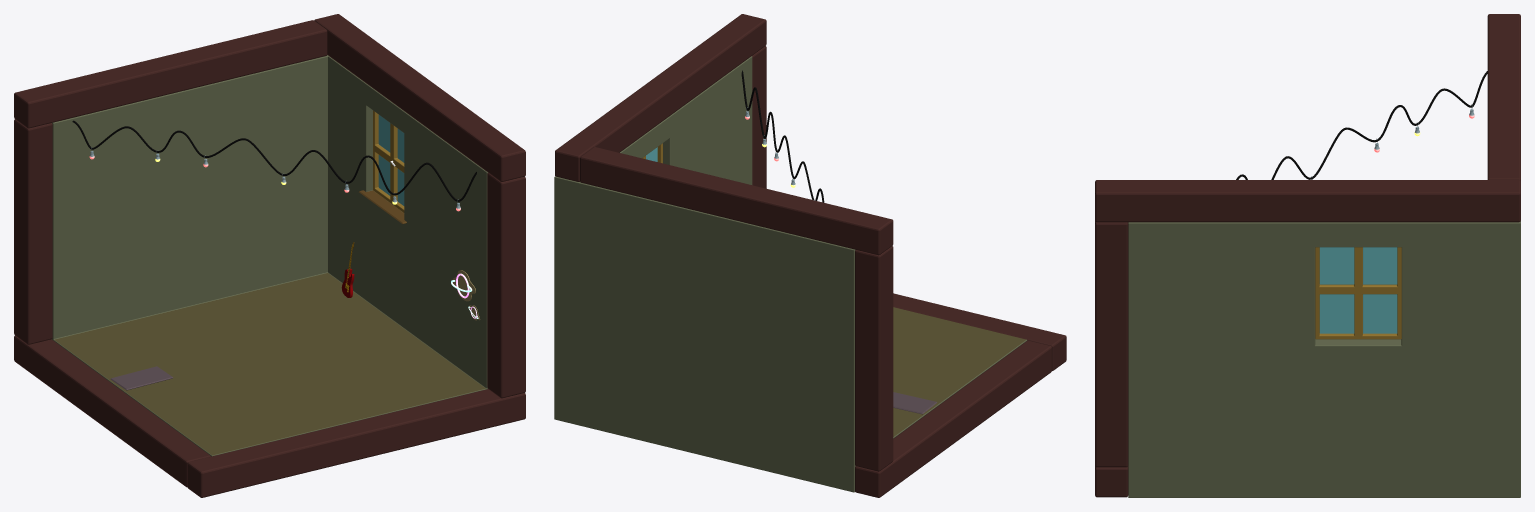
The model's file is Room.glb.
The picture shows the model from 3 angles, left to right: view 1: azimuth 30°, elevation 25°; view 2: azimuth 150°, elevation 25°; view 3: azimuth 270°, elevation 25°; orthographic projection. The views are drawn at different scales.
Parts seen in each view (by area): view 1: walls.007_0, walls.008_5, walls.001_52, BezierCurve.071_39, window frame.001_1, glass.001_2, rug2.001_6; view 2: walls.007_0, walls.008_5, walls.001_52, BezierCurve.071_39, rug2.001_6; view 3: walls.007_0, walls.008_5, glass.001_2, window frame.001_1, BezierCurve.071_39.
Part boxes in pixels (x1,y1,x2,y2): walls.007_0: (52,55,487,456); walls.008_5: (14,14,525,497); walls.001_52: (54,273,485,455); BezierCurve.071_39: (72,120,476,201); window frame.001_1: (373,110,404,212); glass.001_2: (378,115,404,205); rug2.001_6: (110,366,173,390); walls.007_0: (554,56,1027,492); walls.008_5: (555,14,1066,497); walls.001_52: (893,307,1025,436); BezierCurve.071_39: (741,70,824,202); rug2.001_6: (893,392,936,414); walls.007_0: (1128,220,1520,497); walls.008_5: (1095,14,1520,497); glass.001_2: (1319,247,1397,333); window frame.001_1: (1315,247,1401,339); BezierCurve.071_39: (1236,71,1487,179).
Size of the model in its own units: 6.44 by 5.09 by 6.44.
